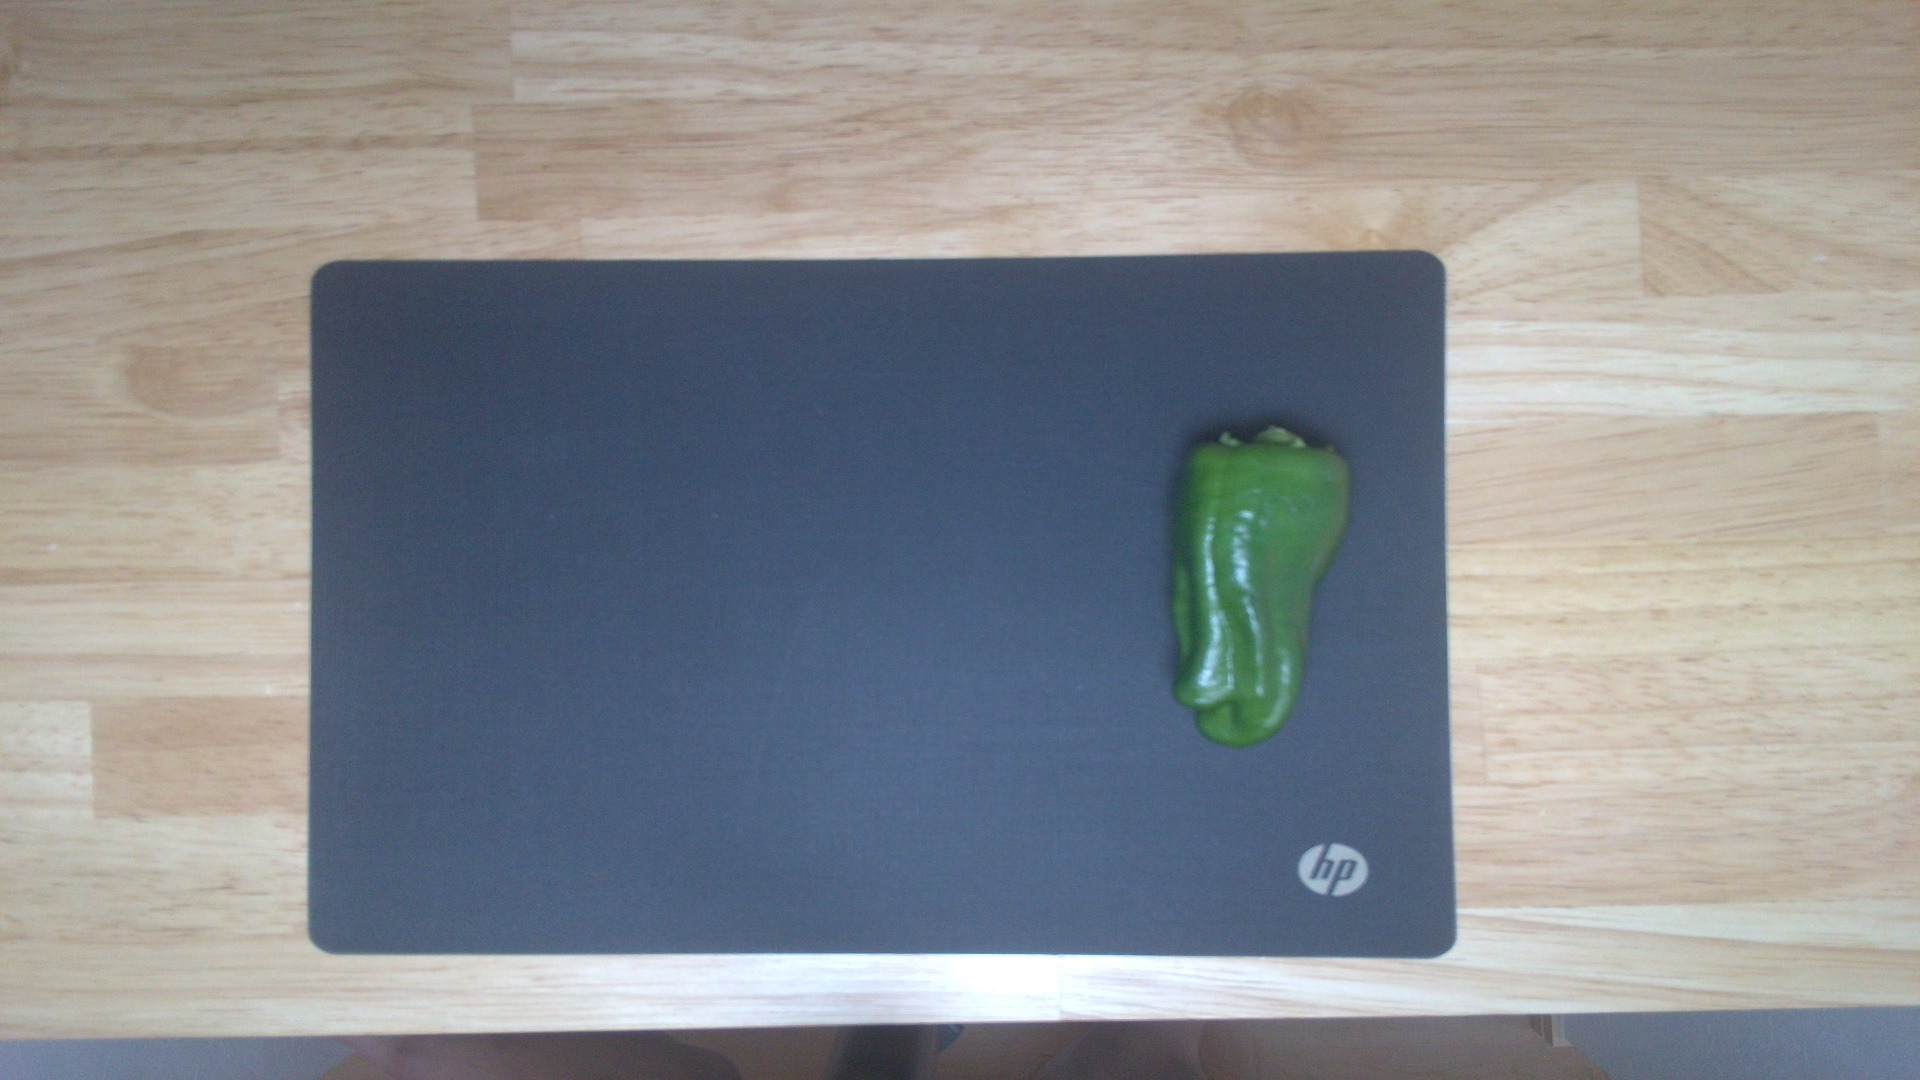Piman: (1164, 419, 1356, 752)
